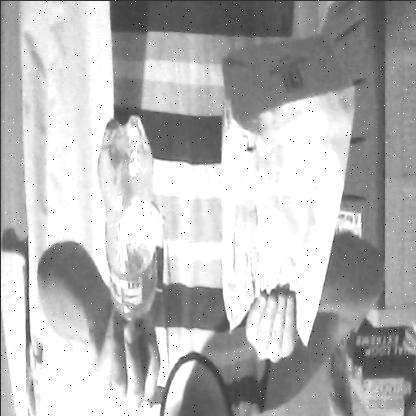Plastic Bottle: (92, 108, 165, 378)
